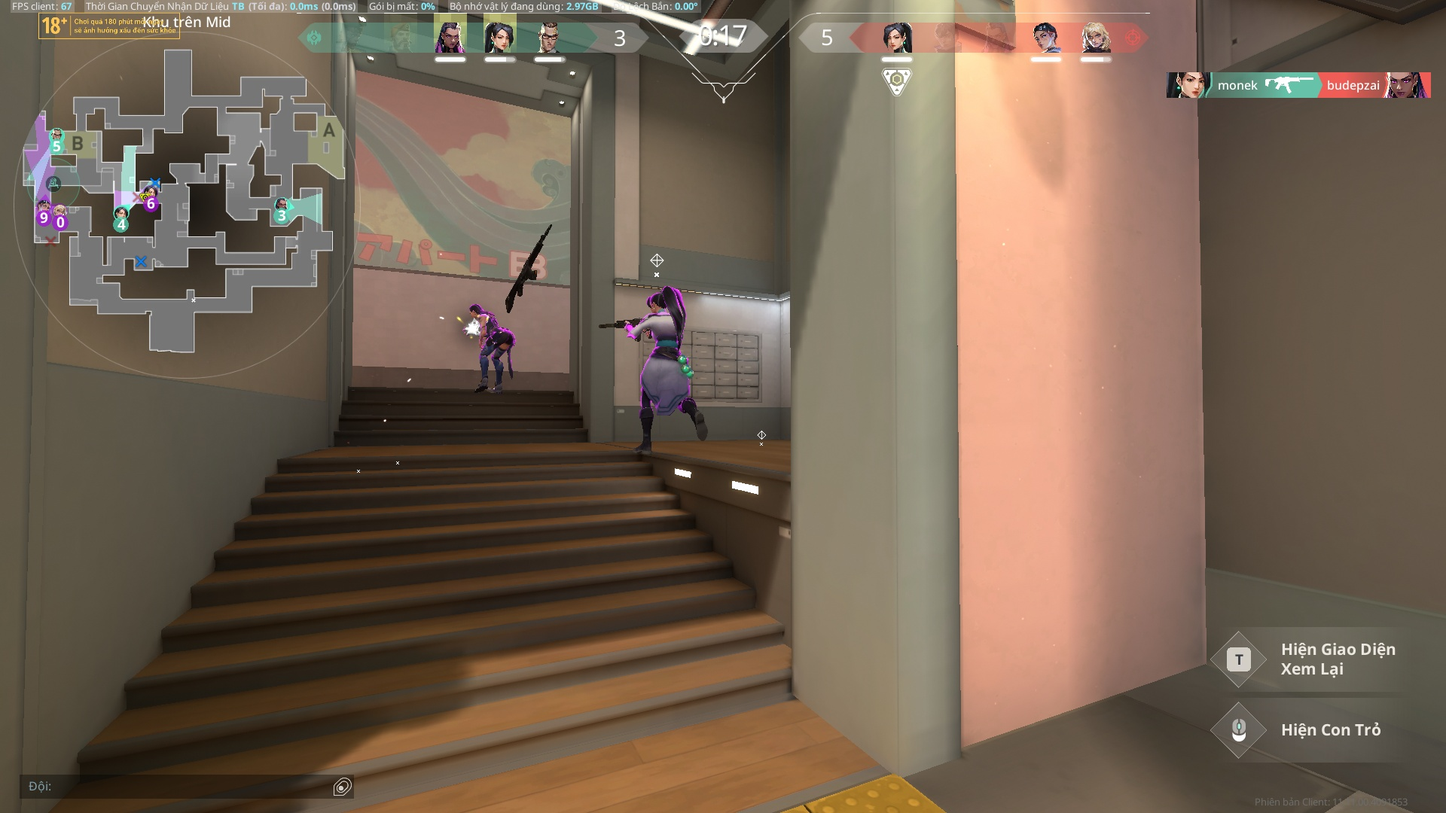body: (645, 309, 681, 352), (477, 310, 502, 334)
head: (644, 288, 668, 313), (468, 304, 484, 316)
